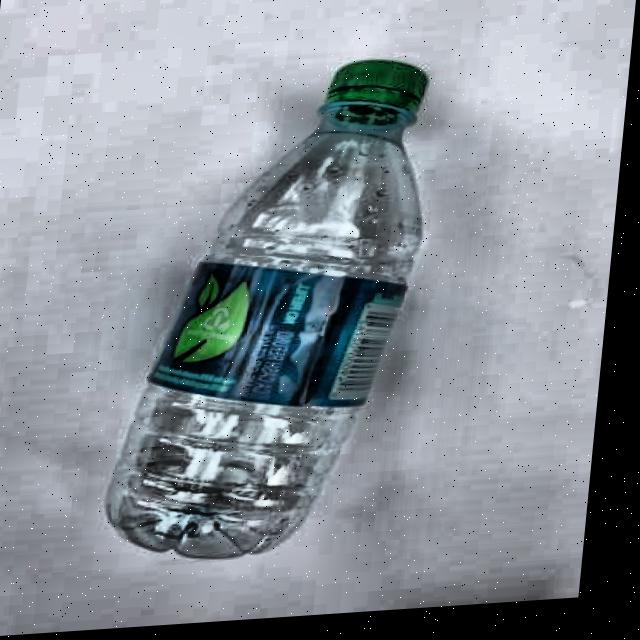plastic: (92, 50, 435, 570)
